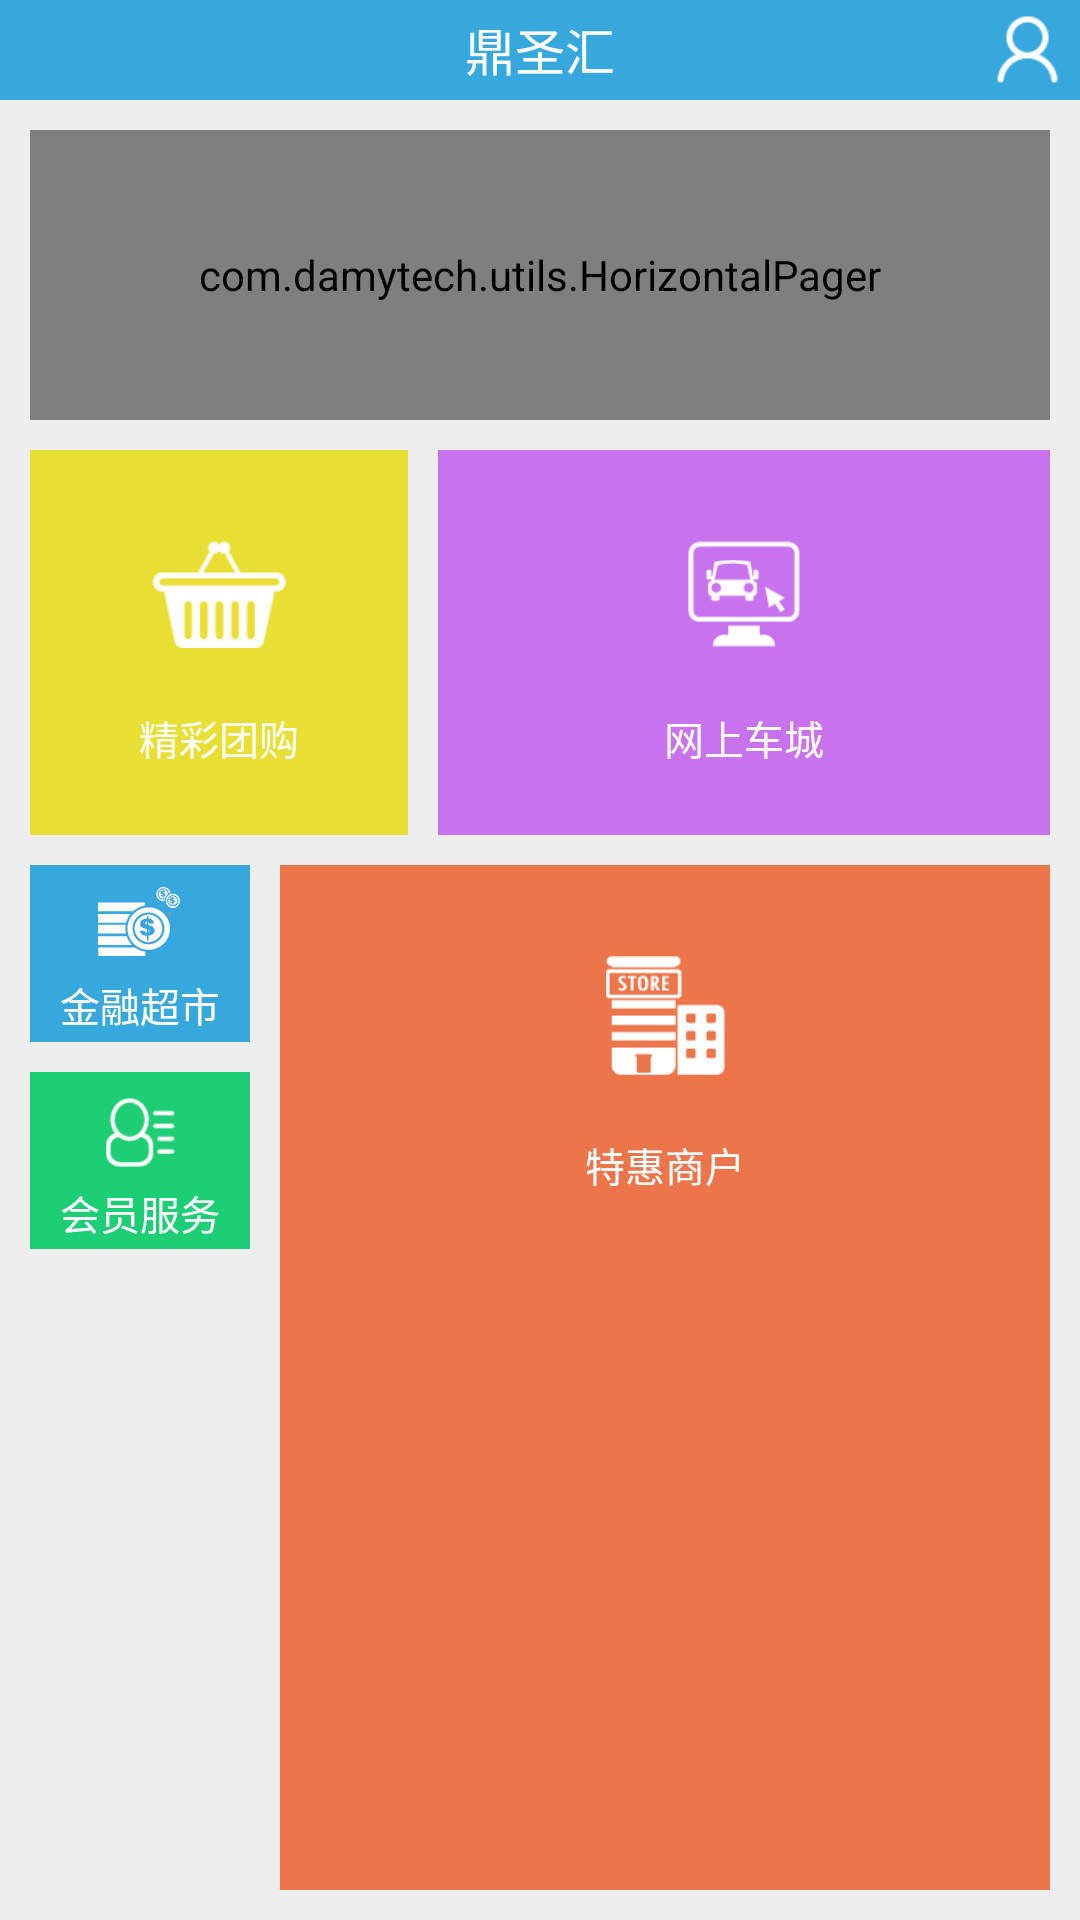

Icons on this 1080px×1920px Android screen, each with its box as detection(x1, y1, x2, y2):
cargoodicon: detection(688, 541, 800, 647)
normalgoodicon: detection(152, 541, 286, 648)
specgoodicon: detection(606, 956, 725, 1075)
usericon: detection(997, 16, 1058, 83)
